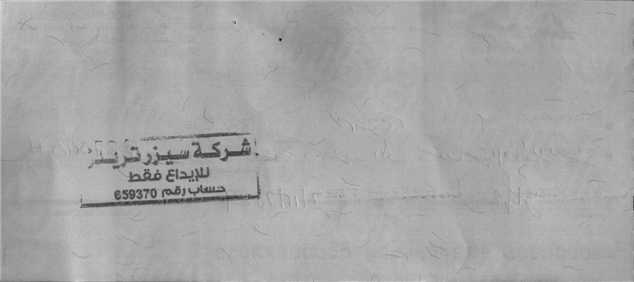stamp: (74, 131, 262, 209)
